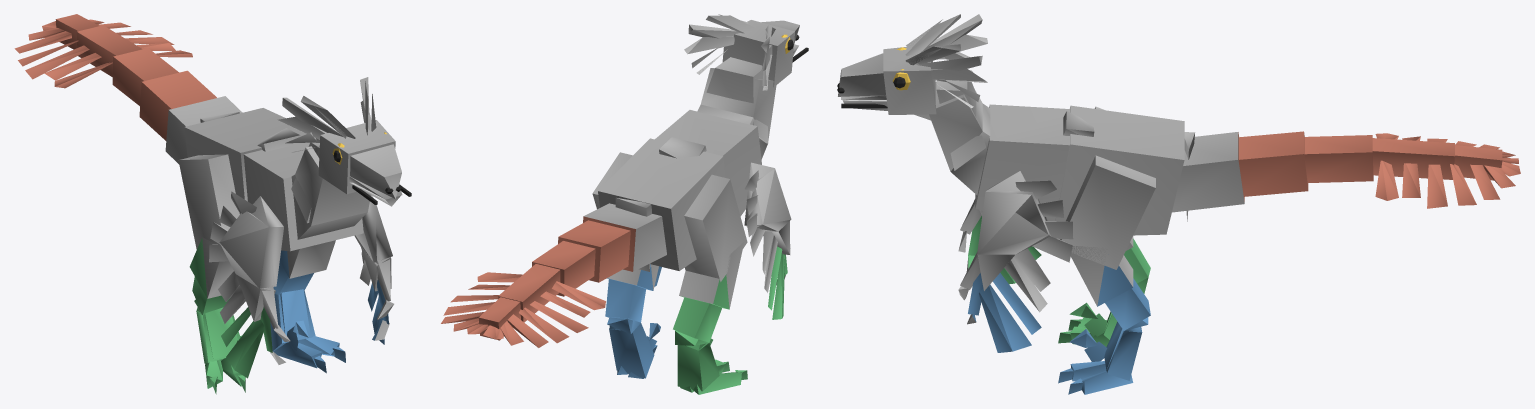
File: troodon.fbx
The picture shows the model from 3 angles, left to right: view 1: azimuth 30°, elevation 25°; view 2: azimuth 150°, elevation 25°; view 3: azimuth 270°, elevation 25°; orthographic projection. The views are drawn at different scales.
Parts seen in each view (by area): view 1: troodon_Body, troodon_Tail, troodon_LegR, troodon_LegL, troodon_Dark; view 2: troodon_Body, troodon_Tail, troodon_LegR, troodon_LegL; view 3: troodon_Body, troodon_Tail, troodon_LegL, troodon_LegR.
Part boxes in pixels (left/top/right/bottom): troodon_Body: left=165, top=77, right=402, bottom=364; troodon_Tail: left=14, top=14, right=216, bottom=140; troodon_LegR: left=189, top=238, right=272, bottom=394; troodon_LegL: left=270, top=250, right=388, bottom=373; troodon_Dark: left=333, top=150, right=411, bottom=204; troodon_Body: left=584, top=14, right=799, bottom=308; troodon_Tail: left=441, top=216, right=635, bottom=347; troodon_LegR: left=673, top=246, right=787, bottom=394; troodon_LegL: left=605, top=264, right=661, bottom=378; troodon_Body: left=838, top=14, right=1244, bottom=324; troodon_Tail: left=1238, top=131, right=1520, bottom=208; troodon_LegL: left=968, top=266, right=1150, bottom=394; troodon_LegR: left=968, top=216, right=1150, bottom=346.
Bounding box in the file's own units: 2.4 × 5.12 × 9.49.
